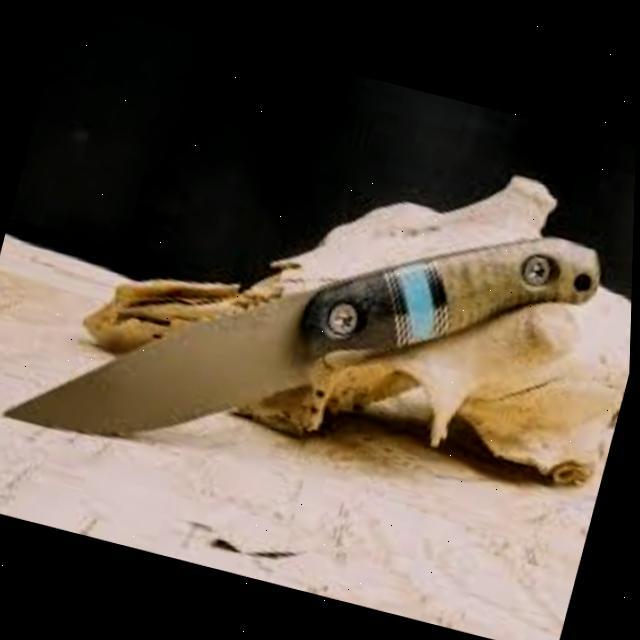Knife: (4, 108, 614, 547)
